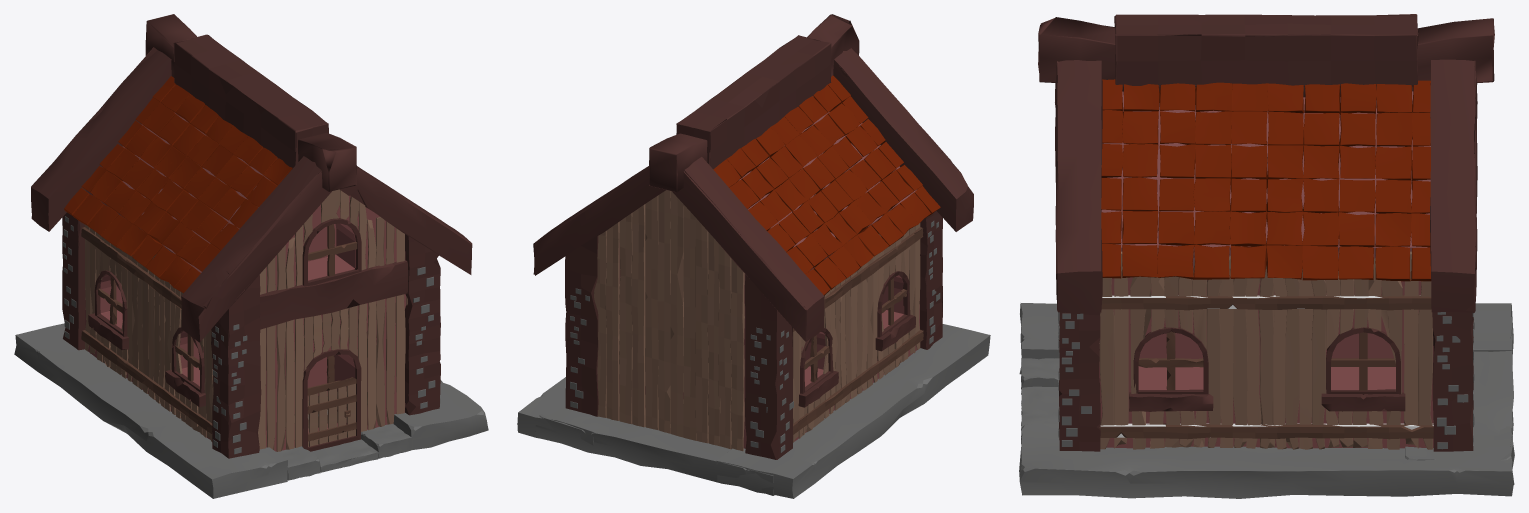
Rendered from house2.fbx.
3 views of the same model, side by side, from view 1: azimuth 30°, elevation 25°; view 2: azimuth 150°, elevation 25°; view 3: azimuth 270°, elevation 25° (orthographic). The views are drawn at different scales.
Parts seen in each view (by area): view 1: Tejado, BordeTecho, Plano.021, BordeTechosuperior, Cubo, Cubo.001, Base.001, ColumnaTecho, Base, Techo, Plano.267, Plano.268 (+25 smaller); view 2: Tejado, BordeTecho, Plano.021, Plano.037, Plano.038, Plano.039, BordeTechosuperior, Cubo.003, Plano.011, Cubo.002, ColumnaTecho, Cubo (+16 smaller); view 3: Tejado, Plano.021, BordeTecho, BordeTechosuperior, Base, ColumnaTecho, Cubo.001, Cubo.002, Base.015, Plano.288, Base.016, Plano.297 (+20 smaller).
Part boxes in pixels (left/top/right/bottom): Tejado: left=64, top=76, right=292, bottom=293; BordeTecho: left=31, top=47, right=472, bottom=342; Plano.021: left=14, top=323, right=488, bottom=498; BordeTechosuperior: left=173, top=34, right=328, bottom=168; Cubo: left=211, top=272, right=261, bottom=458; Cubo.001: left=405, top=234, right=440, bottom=415; Base.001: left=260, top=260, right=408, bottom=329; ColumnaTecho: left=145, top=14, right=356, bottom=191; Base: left=85, top=275, right=406, bottom=451; Techo: left=86, top=112, right=405, bottom=292; Plano.267: left=285, top=219, right=376, bottom=449; Plano.268: left=276, top=217, right=385, bottom=451; Tejado: left=713, top=75, right=940, bottom=295; BordeTecho: left=533, top=48, right=973, bottom=341; Plano.021: left=517, top=324, right=990, bottom=498; Plano.037: left=645, top=190, right=696, bottom=440; Plano.038: left=619, top=204, right=720, bottom=446; Plano.039: left=594, top=221, right=744, bottom=451; BordeTechosuperior: left=676, top=35, right=831, bottom=169; Cubo.003: left=745, top=274, right=792, bottom=459; Plano.011: left=535, top=414, right=774, bottom=495; Cubo.002: left=565, top=236, right=598, bottom=416; ColumnaTecho: left=649, top=14, right=859, bottom=192; Cubo: left=919, top=151, right=943, bottom=349; Tejado: left=1101, top=79, right=1431, bottom=281; Plano.021: left=1019, top=303, right=1513, bottom=498; BordeTecho: left=1055, top=59, right=1477, bottom=313; BordeTechosuperior: left=1114, top=14, right=1418, bottom=87; Base: left=1099, top=280, right=1433, bottom=448; ColumnaTecho: left=1038, top=17, right=1494, bottom=97; Cubo.001: left=1059, top=312, right=1100, bottom=451; Cubo.002: left=1432, top=312, right=1473, bottom=451; Base.015: left=1099, top=423, right=1433, bottom=439; Plano.288: left=1114, top=251, right=1418, bottom=448; Base.016: left=1101, top=295, right=1431, bottom=310; Plano.297: left=1233, top=278, right=1299, bottom=449.
Size of the model in its own units: 412 by 445 by 509.
